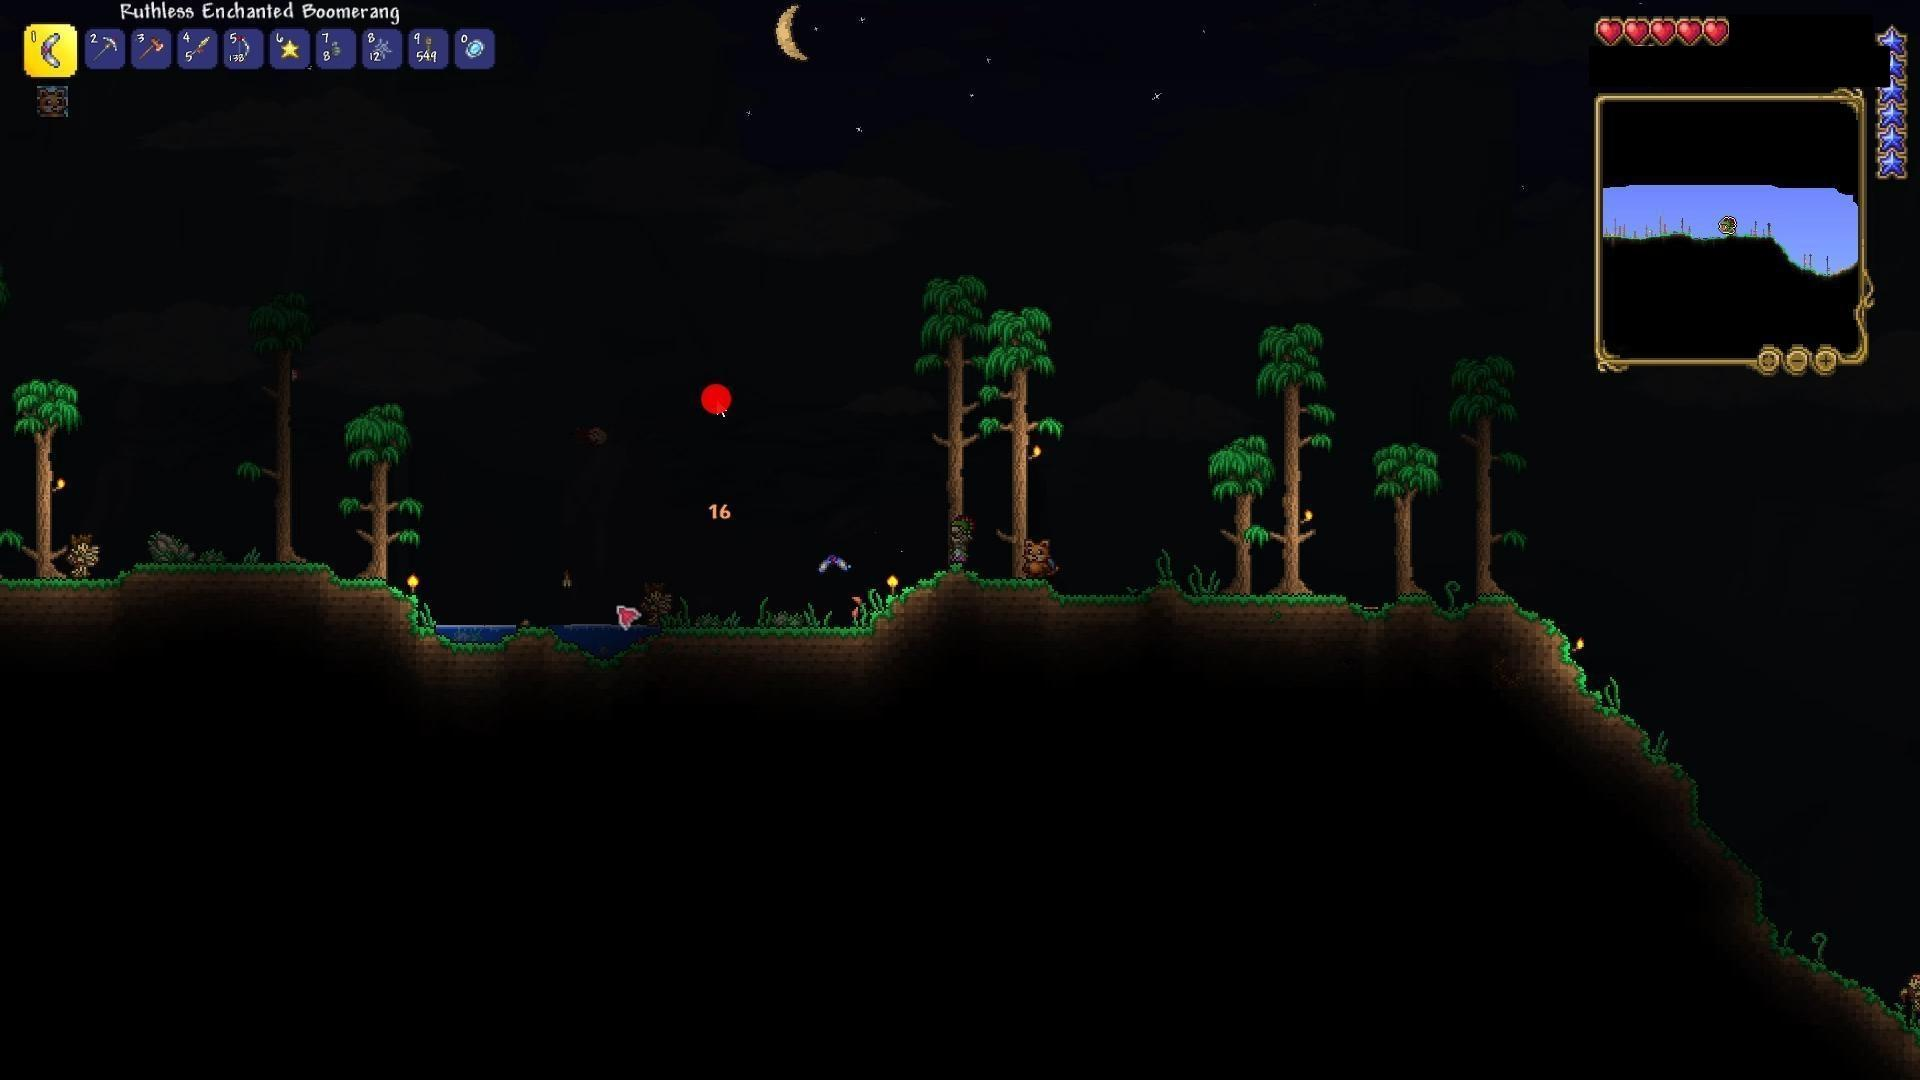dirt: (1698, 836, 1903, 1023), (895, 560, 1352, 628), (406, 617, 878, 671), (1553, 655, 1700, 812), (127, 555, 401, 607), (1344, 583, 1559, 644), (0, 567, 128, 604)
heart: (1702, 17, 1733, 51), (1593, 16, 1626, 46), (1676, 15, 1704, 50), (1650, 16, 1676, 49), (1625, 15, 1651, 44)
liquid: (435, 615, 518, 640)
tree: (990, 301, 1067, 578), (924, 270, 985, 575), (1445, 340, 1515, 600), (334, 392, 410, 589), (1274, 310, 1328, 588), (26, 380, 90, 560), (1199, 433, 1263, 589), (1367, 435, 1429, 592)
